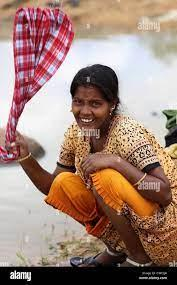NoHuman: (33, 57, 175, 268)
